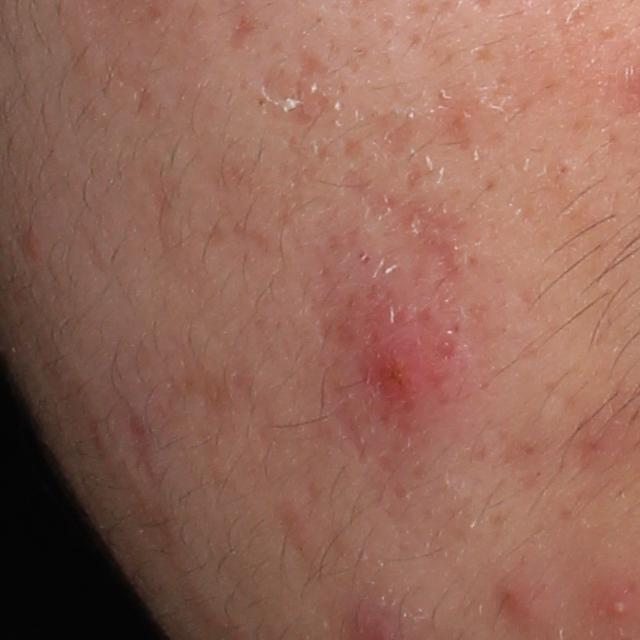atrophic_scar: (122, 405, 160, 492), (360, 106, 418, 162), (226, 12, 261, 54)
comedo: (555, 156, 574, 181)
papule: (365, 326, 443, 407), (496, 572, 542, 625), (18, 227, 47, 262)
